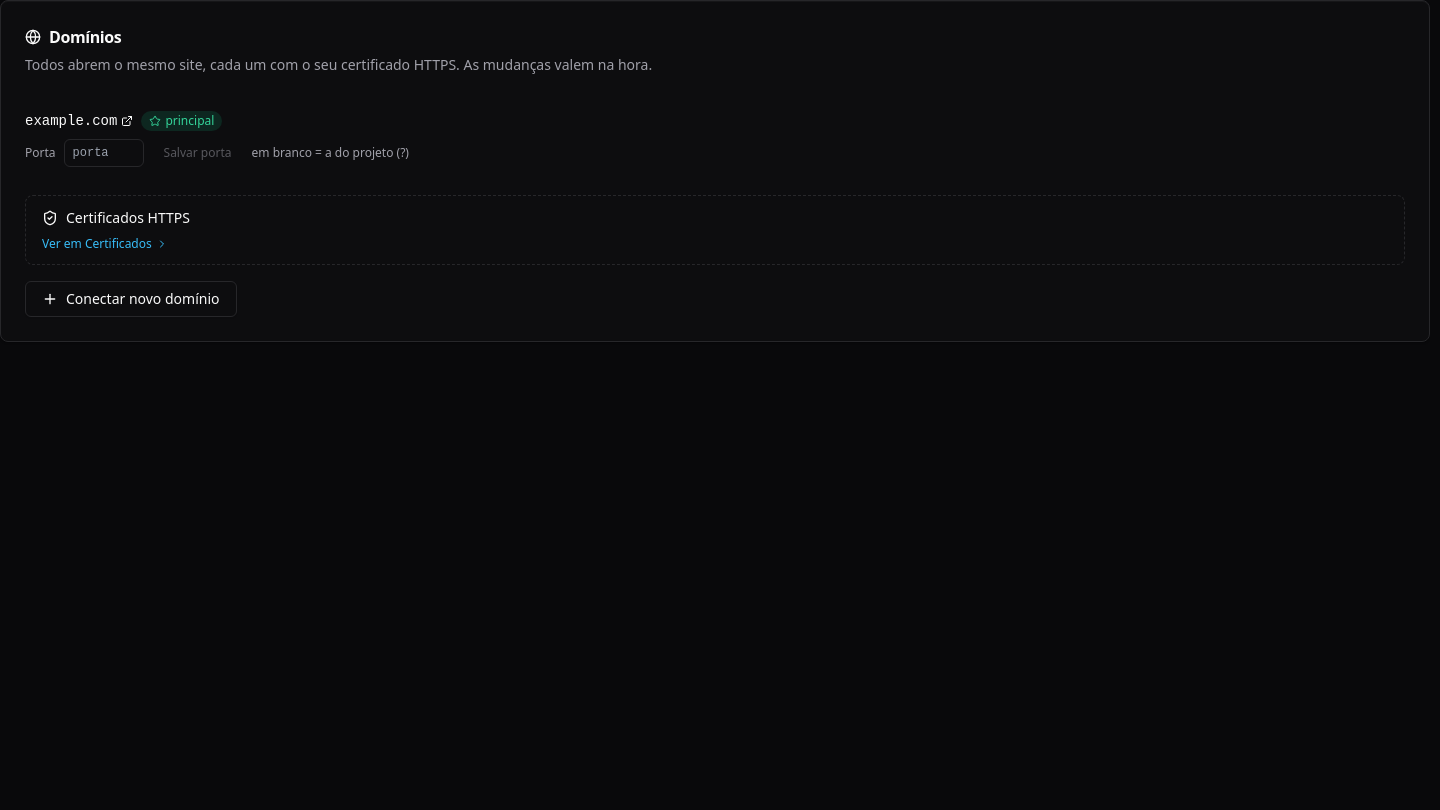
Conectar novo domínio › clique fora fecha e devolve a rolagem
Click the button "Conectar novo domínio" at (131, 299), box x1=25 y1=281 x2=236 y2=317
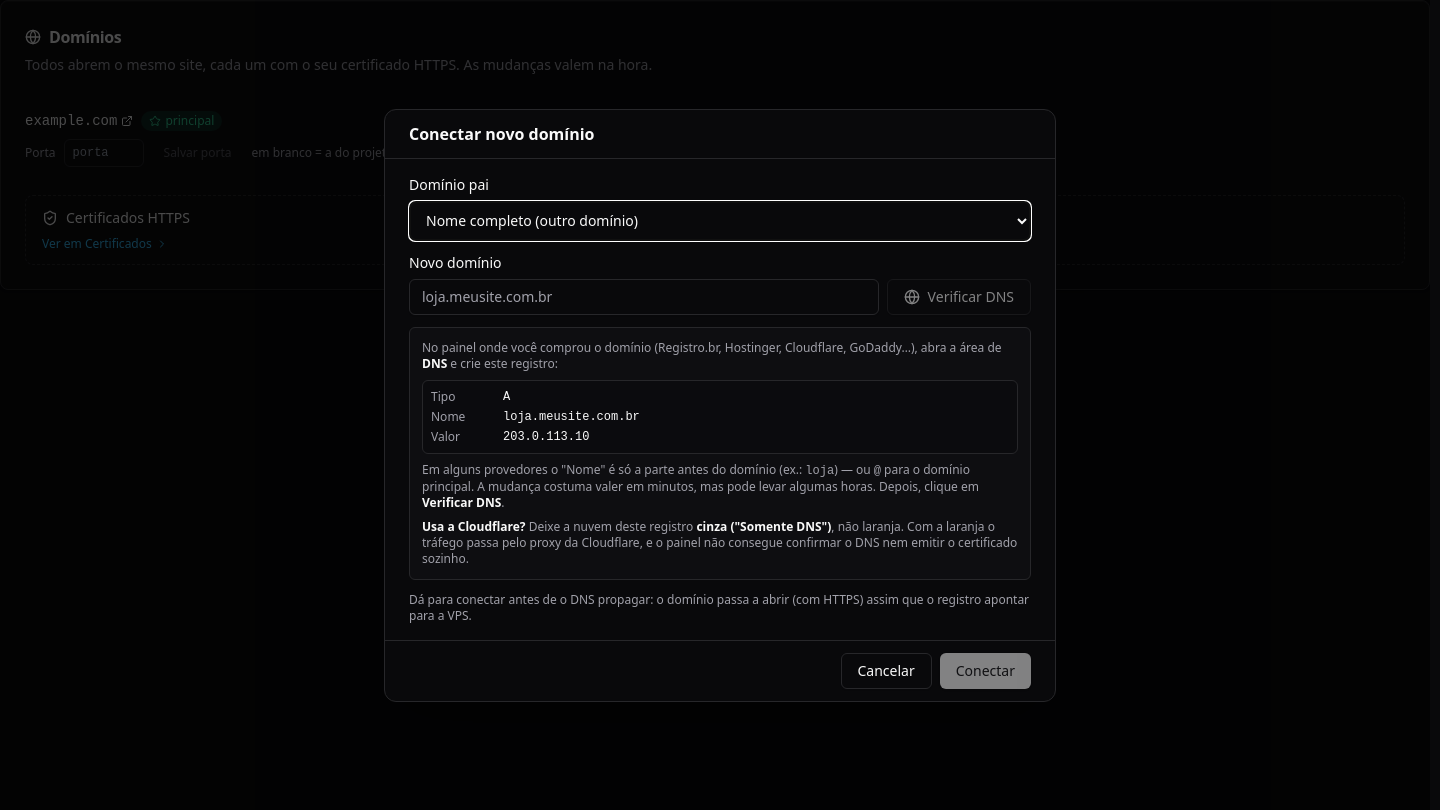
Press the mouse on the element with test id "modal-overlay" at (720, 405), box x1=0 y1=0 x2=1439 y2=809
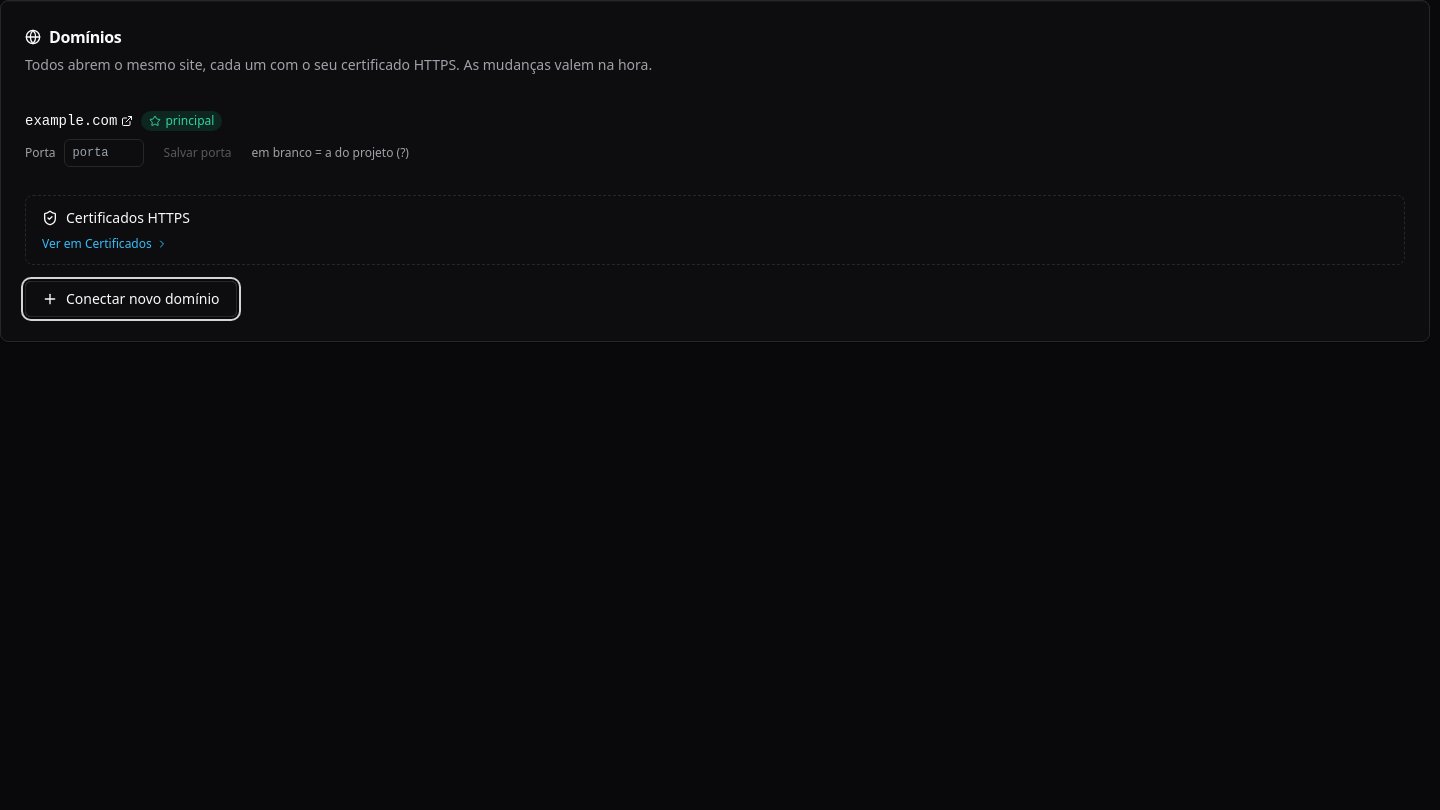
Check: the dialog with test id "modal-panel" is gone
